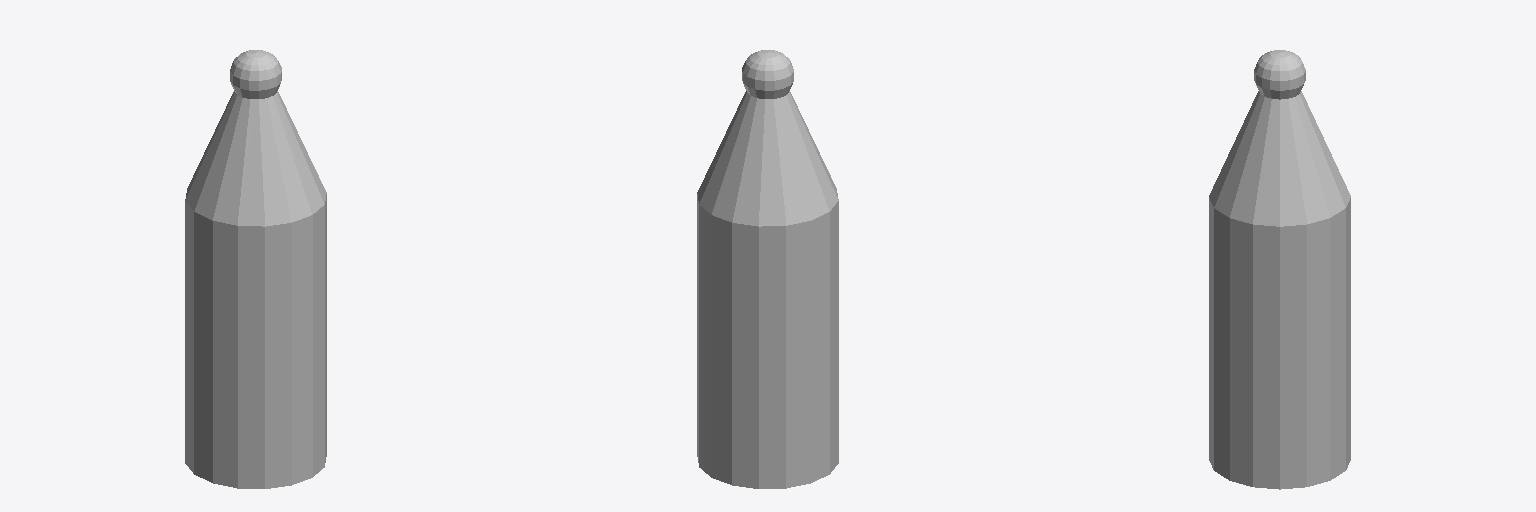
The model's file is light.obj.
3 renders of one model, left to right at view 1: azimuth 30°, elevation 25°; view 2: azimuth 150°, elevation 25°; view 3: azimuth 270°, elevation 25°, orthographic.
Visible parts, largest first — view 1: pCylinder1; view 2: pCylinder1; view 3: pCylinder1.
Part boxes in pixels (x1,y1,x2,y2): pCylinder1: (185,50,326,488); pCylinder1: (697,50,838,488); pCylinder1: (1209,50,1350,489).
Bounding box in the file's own units: 0.2361 × 0.7428 × 0.2361.